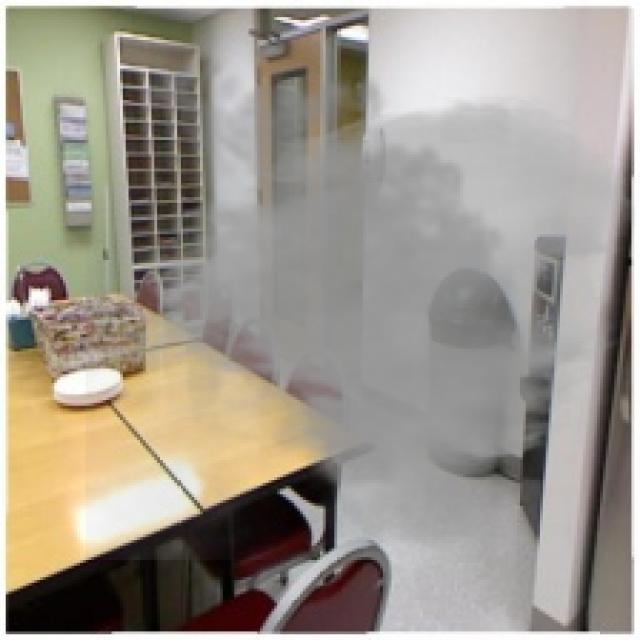Smoke: (85, 40, 638, 563)
